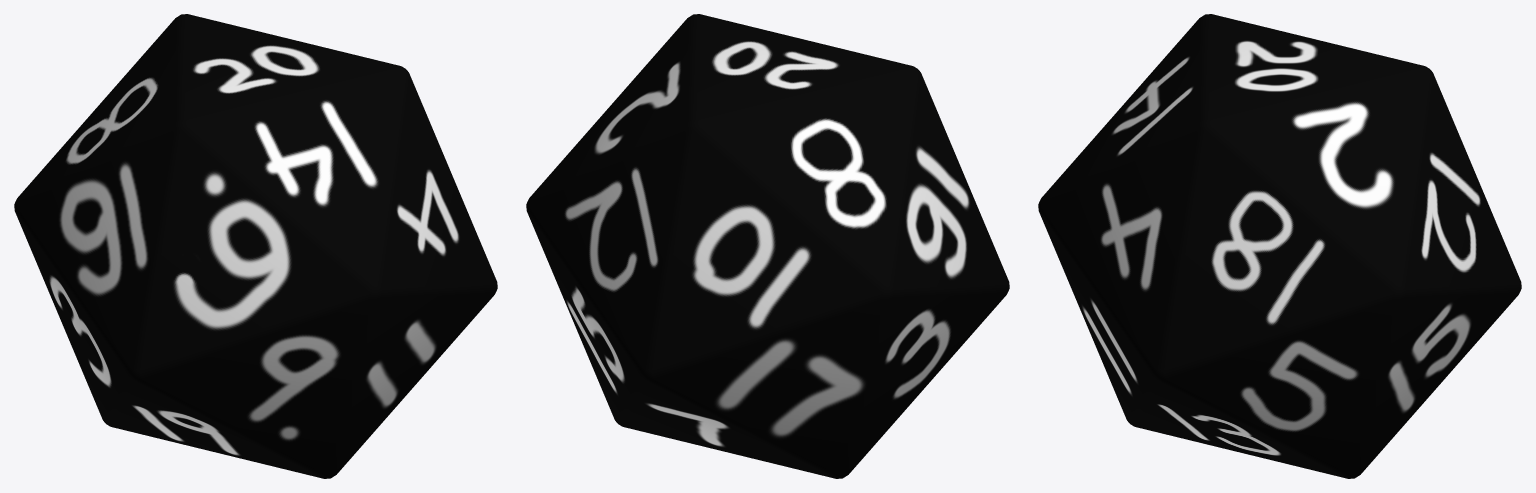
Rendered from Clay Dice 01.gltf.
3 renders of one model, left to right at view 1: azimuth 30°, elevation 25°; view 2: azimuth 150°, elevation 25°; view 3: azimuth 270°, elevation 25°, orthographic.
Visible parts, largest first — view 1: twenty-rigid; view 2: twenty-rigid; view 3: twenty-rigid.
Part boxes in pixels (x1,y1,x2,y2): twenty-rigid: (14, 14, 497, 478); twenty-rigid: (526, 14, 1009, 478); twenty-rigid: (1038, 14, 1521, 478).
Bounding box in the file's own units: 1.69 × 1.59 × 1.94.
1 material, 1 textured.
